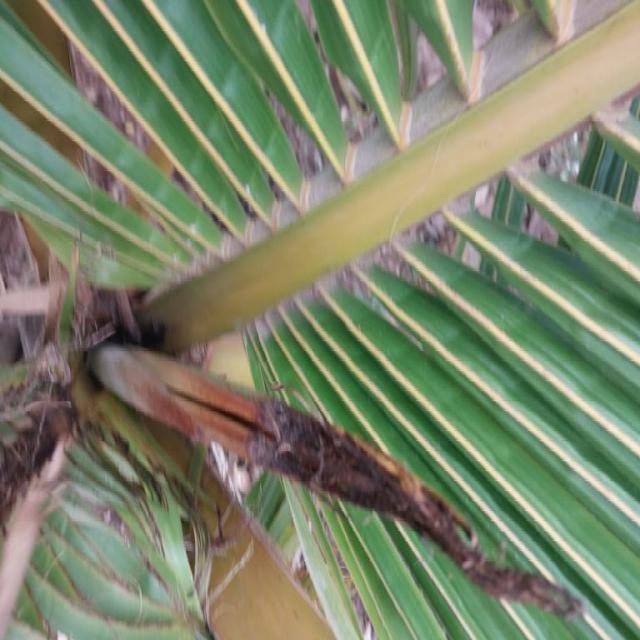bud rot: (90, 345, 581, 616)
